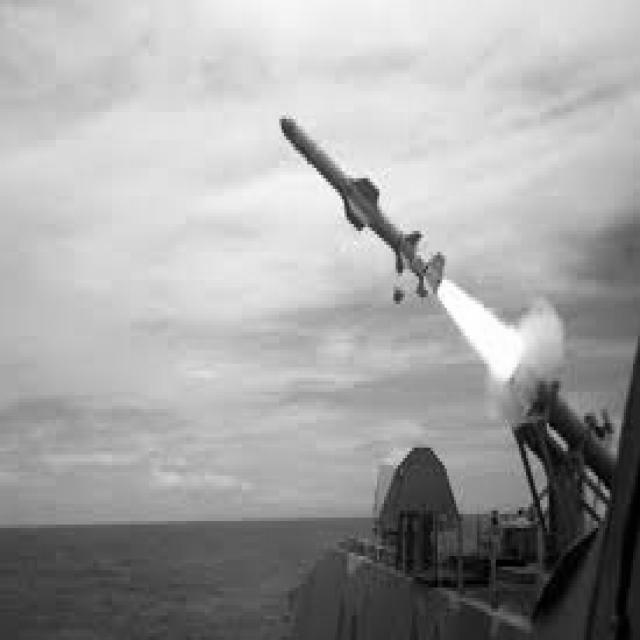Missile: (266, 103, 453, 313)
